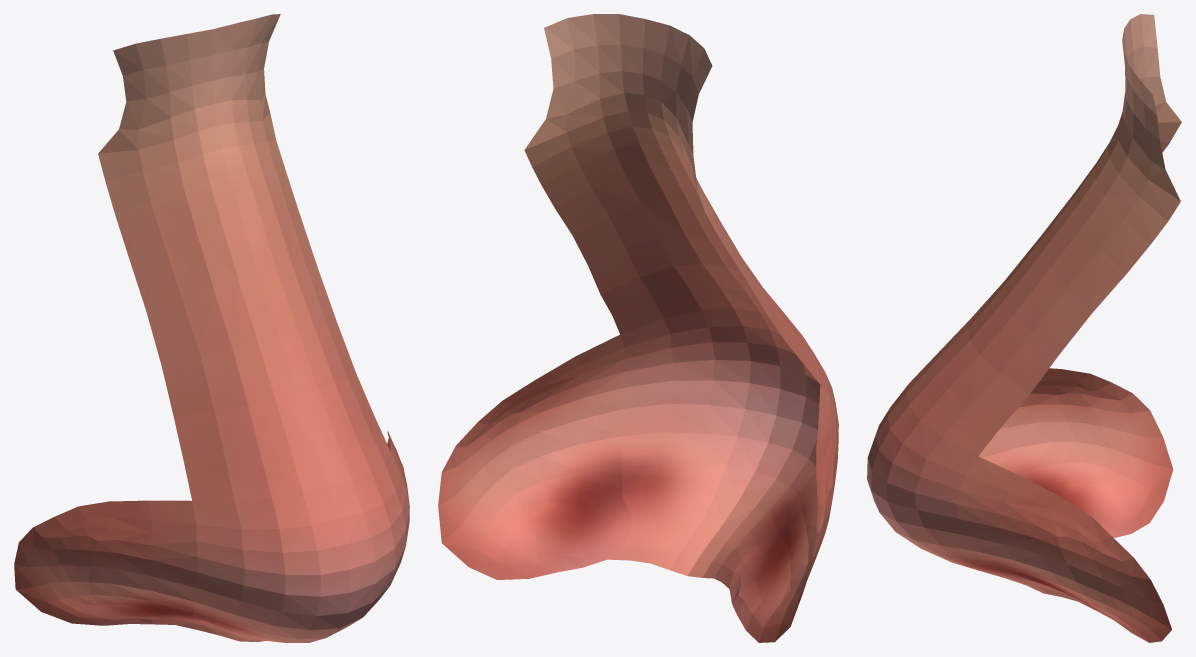
The model's file is euro-fem-nose-sellion-thin.obj.
The picture shows the model from 3 angles, left to right: view 1: azimuth 30°, elevation 25°; view 2: azimuth 150°, elevation 25°; view 3: azimuth 270°, elevation 25°; orthographic projection. The views are drawn at different scales.
Parts seen in each view (by area): view 1: euro-fem-nose-sel.005; view 2: euro-fem-nose-sel.005; view 3: euro-fem-nose-sel.005.
Part boxes in pixels (left/top/right/bottom): euro-fem-nose-sel.005: left=14, top=14, right=409, bottom=642; euro-fem-nose-sel.005: left=438, top=14, right=838, bottom=642; euro-fem-nose-sel.005: left=867, top=14, right=1181, bottom=642.
Bounding box in the file's own units: 0.2411 × 0.3672 × 0.191.
Materials: 1 (1 with a texture image).
